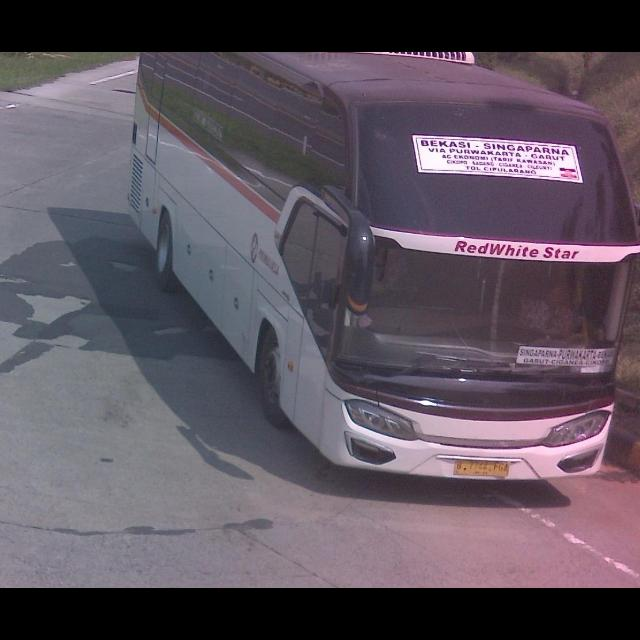plate: (452, 456, 512, 478)
